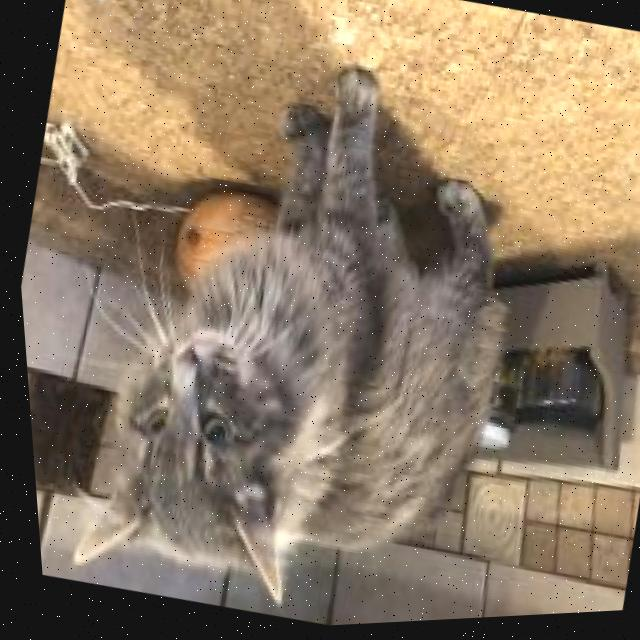Maine Coon: (30, 15, 568, 639)
